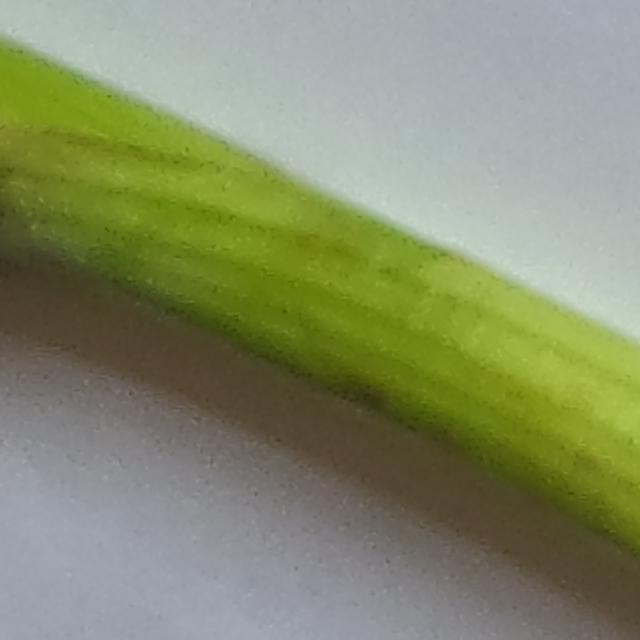green_onion: (0, 36, 640, 640)
